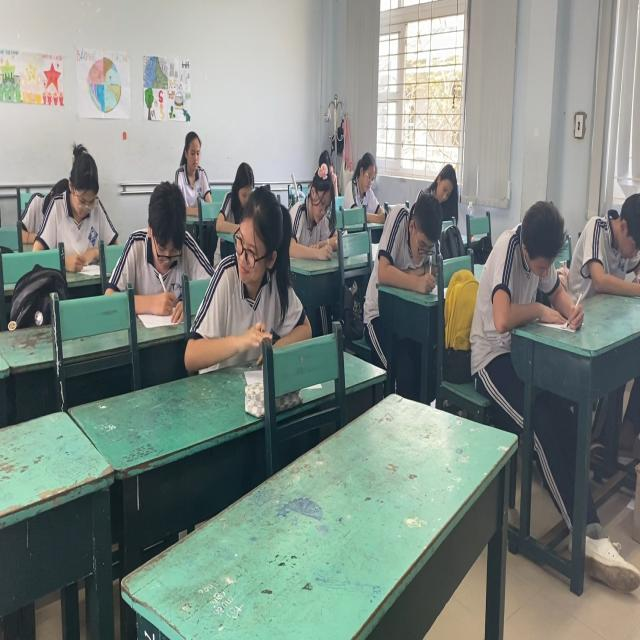cheating: (213, 169, 298, 369)
not_cheating: (488, 194, 582, 342), (120, 183, 214, 296), (346, 200, 446, 302), (45, 131, 119, 248), (584, 187, 640, 310), (290, 152, 333, 259), (174, 130, 212, 218), (345, 128, 382, 206), (432, 151, 460, 227)
